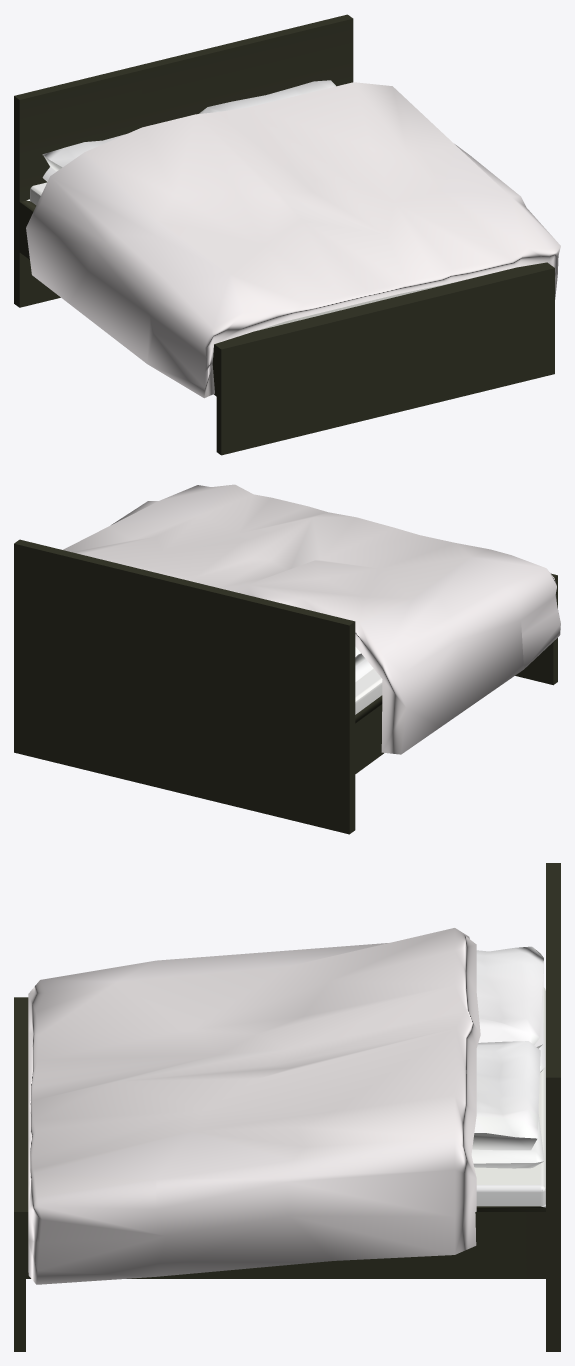
The model's file is KingBed.fbx.
3 views of the same model, one above another, from view 1: azimuth 30°, elevation 25°; view 2: azimuth 150°, elevation 25°; view 3: azimuth 270°, elevation 25° (orthographic). The views are drawn at different scales.
Parts seen in each view (by area): view 1: pCube19; view 2: pCube19; view 3: pCube19.
Part boxes in pixels (<box>): pCube19: <box>14,14,560,455</box>; pCube19: <box>14,484,560,834</box>; pCube19: <box>14,863,560,1351</box>.
Bounding box in the file's own units: 136 × 70.91 × 128.
